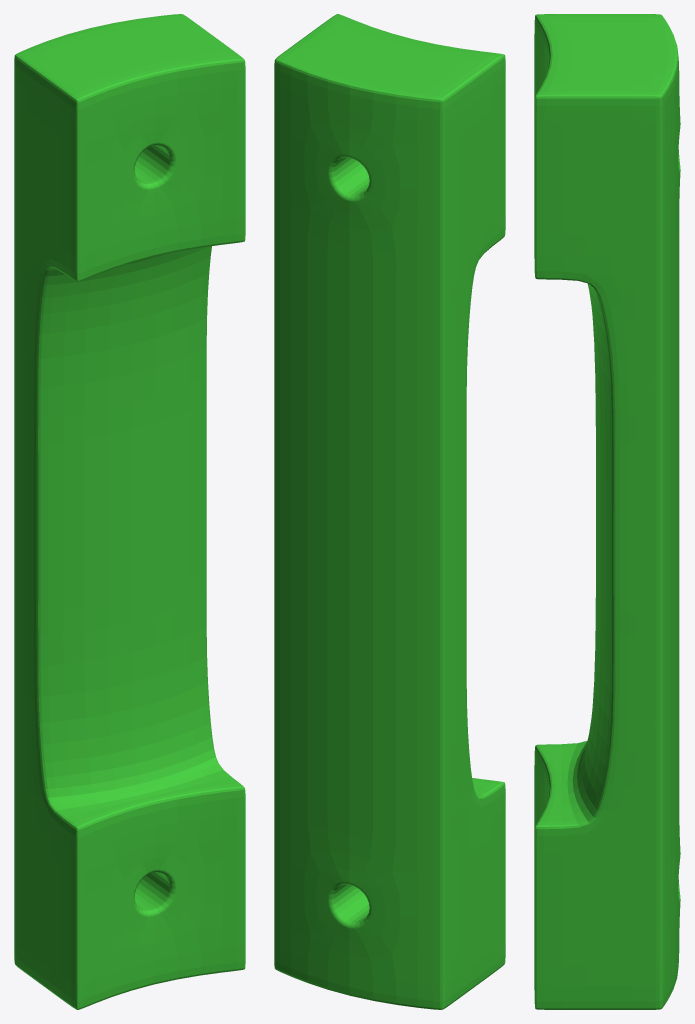
The model's file is canister_handle.fbx.
3 renders of one model, left to right at view 1: azimuth 30°, elevation 25°; view 2: azimuth 150°, elevation 25°; view 3: azimuth 270°, elevation 25°, orthographic.
Parts seen in each view (by area): view 1: Handle; view 2: Handle; view 3: Handle.
Part boxes in pixels (<box>): Handle: <box>14,14,245,1009</box>; Handle: <box>274,14,505,1009</box>; Handle: <box>534,14,680,1009</box>.
Size of the model in its own units: 13.55 by 69.08 by 9.98.
